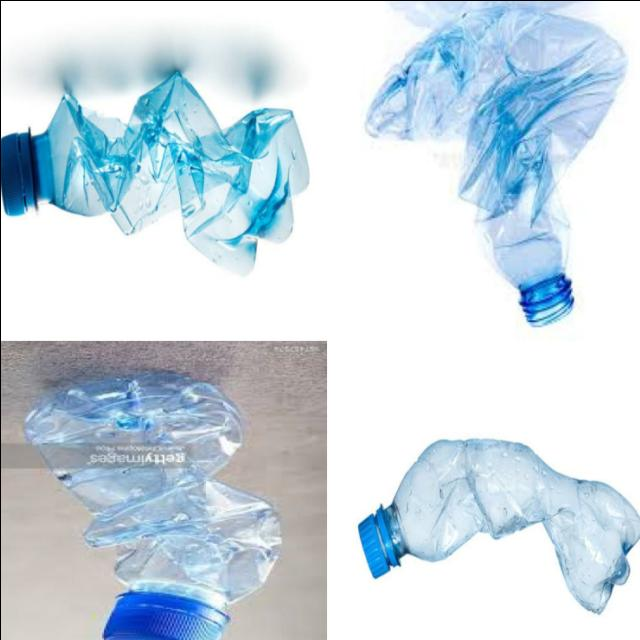plastik: (365, 11, 626, 325), (25, 374, 279, 640), (0, 72, 307, 274), (358, 439, 640, 610)
